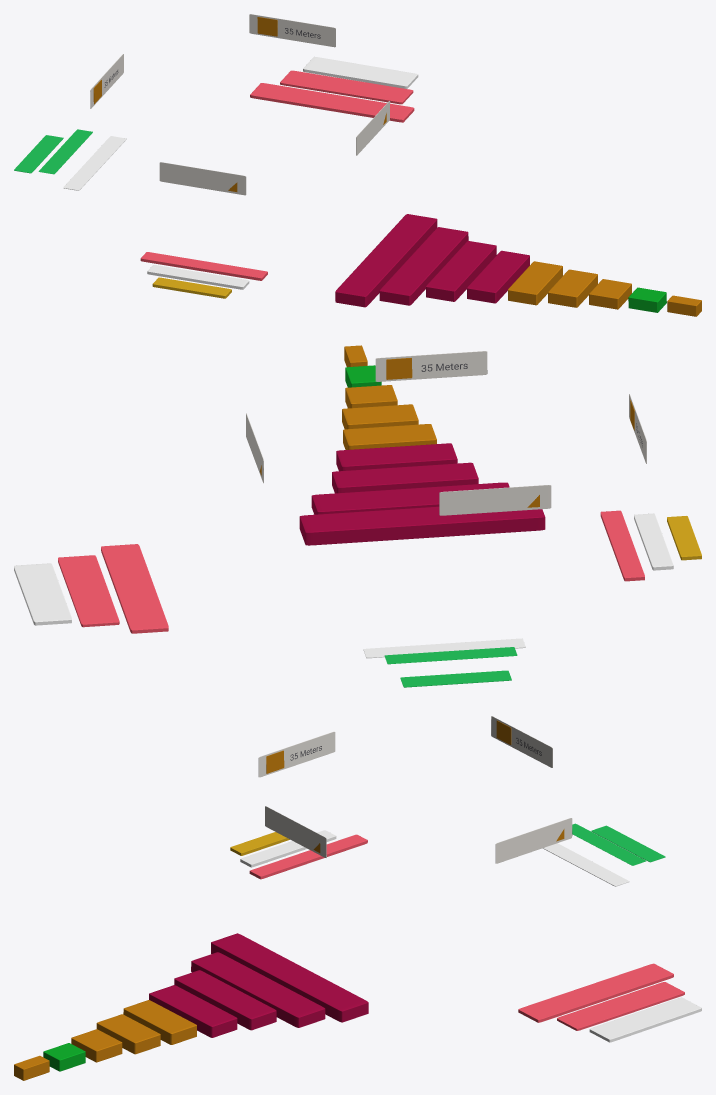
File: jump_domi16.gltf
3 renders of one model, top to bottom at view 1: azimuth 30°, elevation 25°; view 2: azimuth 150°, elevation 25°; view 3: azimuth 270°, elevation 25°, orthographic. The views are drawn at different scales.
Visible parts, largest first — view 1: Cube right (×13), Cube top (×2), Cube bottom (×3), Cube left (×3), Cube top center; view 2: Cube right (×11), Cube top (×2), Cube bottom (×3), Cube left (×3), Cube top center; view 3: Cube right (×13), Cube top (×2), Cube top center, Cube bottom (×3), Cube left (×3).
Boxes of the visible parts, bbox=[...] form: Cube right (×13): bbox=[90, 14, 701, 316]; Cube top (×2): bbox=[280, 57, 418, 104]; Cube bottom (×3): bbox=[140, 252, 267, 298]; Cube left (×3): bbox=[14, 129, 126, 190]; Cube top center: bbox=[250, 83, 414, 122]; Cube right (×11): bbox=[299, 351, 551, 545]; Cube top (×2): bbox=[14, 555, 119, 627]; Cube bottom (×3): bbox=[600, 510, 701, 581]; Cube left (×3): bbox=[363, 638, 525, 687]; Cube top center: bbox=[101, 544, 168, 633]; Cube right (×13): bbox=[14, 716, 572, 1080]; Cube top (×2): bbox=[557, 982, 701, 1042]; Cube top center: bbox=[518, 963, 673, 1022]; Cube bottom (×3): bbox=[230, 830, 367, 879]; Cube left (×3): bbox=[543, 823, 665, 886].
Size of the model in its own units: 18.37 by 6.49 by 24.57.
